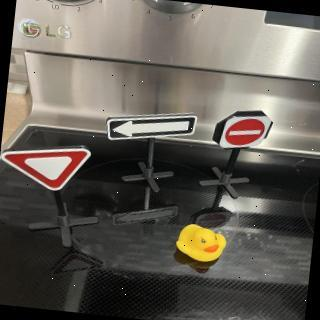duck_regular: (175, 223, 229, 265)
sign_noentry: (217, 108, 275, 156)
sign_oneway_left: (105, 106, 199, 150)
sign_yield: (1, 138, 92, 195)
